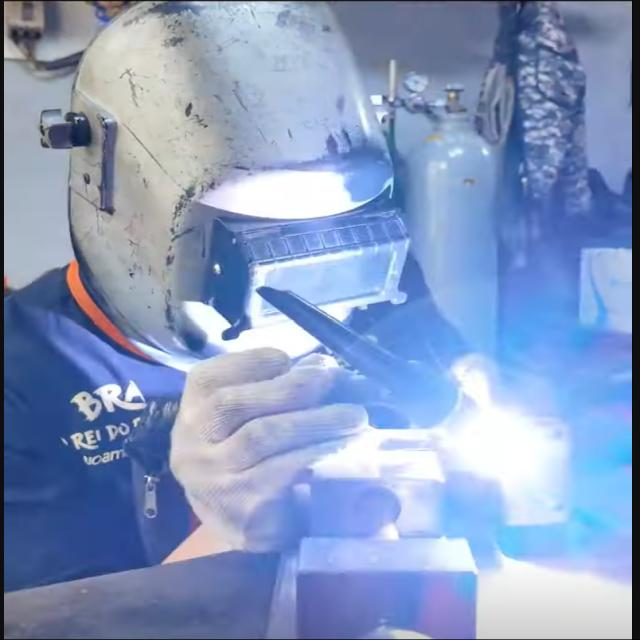welding: (449, 406, 542, 484)
